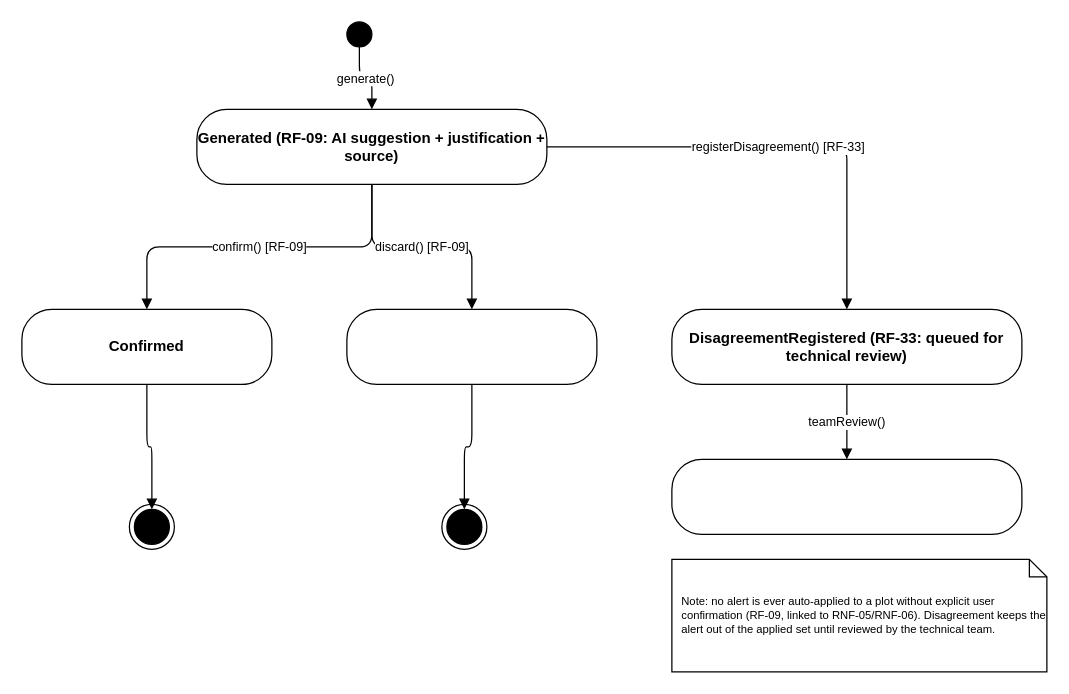
The diagram is 1069 pixels wide and 694 high, and some of its shapes have lost their labels. The shapes that lost their labels are listed below. From the top down, each one's box as (x1, y1, x2, y2) in pixels, then its label:
(346, 308, 597, 384): Discarded
(671, 458, 1022, 534): ReviewedByTechnicalTeam
